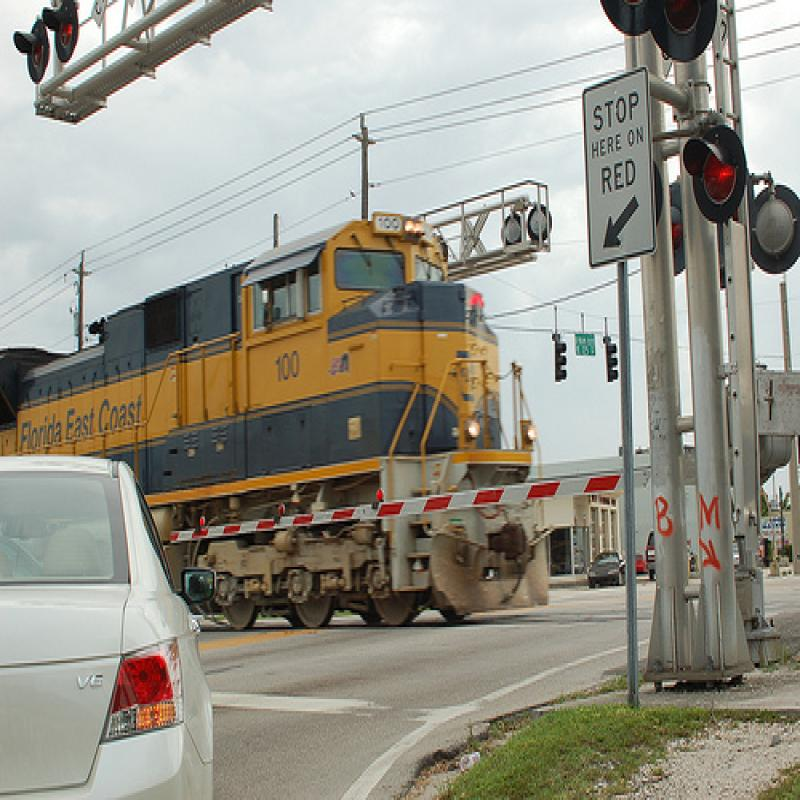train: (3, 218, 553, 631)
